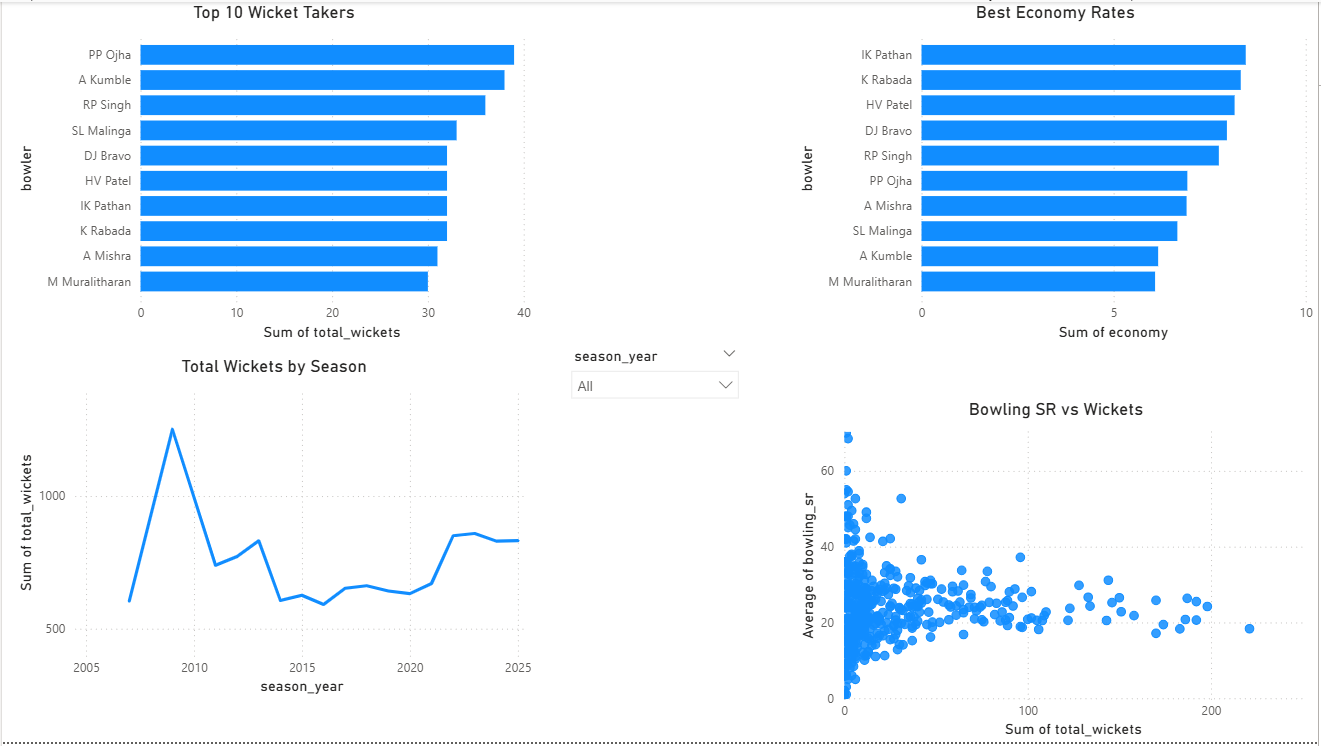

Layout of this report page (visuals, bound fields, positions):
{"tool":"powerbi","page":{"name":"Bowling Analysis","canvas":[1280,720],"ordinal":2},"visuals":[{"type":"barChart","title":"Top 10 Wicket Takers","fields":{"Category":["best_economy (2).bowler"],"Y":["Sum(best_economy (2).total_wickets)"]},"box":[9.7,0,509.7,333.6],"z":0},{"type":"barChart","title":"Best Economy Rates","fields":{"Category":["best_economy (2).bowler"],"Y":["Sum(best_economy (2).economy)"]},"box":[769.4,0,510.6,333.6],"z":1000},{"type":"lineChart","title":"Total Wickets by Season","fields":{"Category":["season_summary.season_year"],"Y":["Sum(season_summary.total_wickets)"]},"box":[10,344,510,334],"z":2000},{"type":"scatterChart","title":"Bowling SR vs Wickets","fields":{"Category":["bowling_stats.bowler"],"Y":["Avg(bowling_stats.bowling_sr)"],"X":["Sum(bowling_stats.total_wickets)"]},"box":[770.4,385.9,509.8,334.1],"z":3000},{"type":"slicer","fields":{"Values":["season_summary.season_year"]},"box":[543.7,330.7,182.9,187.7],"z":4000}]}

Visuals, with their boxes in screenshot pixels (x1, y1, x2, y2), scaled from the page's 1280x720 canvas onto the 1321x746 screenshot:
"Top 10 Wicket Takers" barChart: Rect(10, 0, 536, 346)
"Best Economy Rates" barChart: Rect(794, 0, 1320, 346)
"Total Wickets by Season" lineChart: Rect(10, 356, 537, 702)
"Bowling SR vs Wickets" scatterChart: Rect(795, 400, 1320, 745)
slicer - season_summary.season_year: Rect(561, 343, 750, 537)
